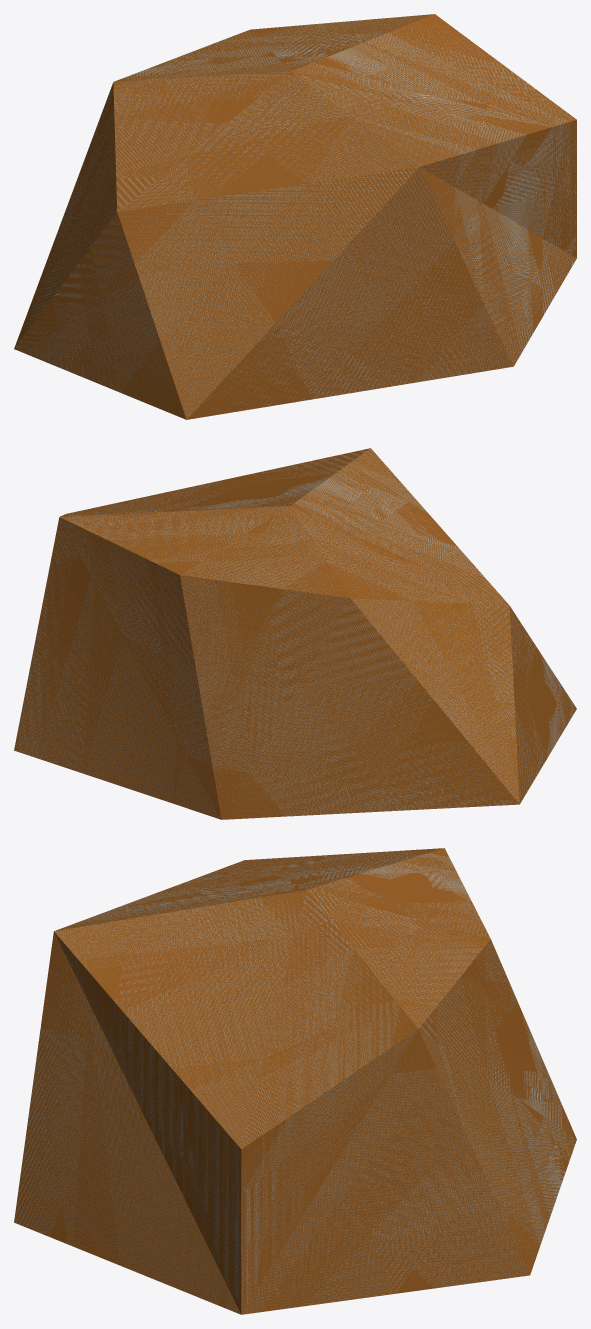
The model's file is Rock_Medium_Dirt_01.fbx.
The picture shows the model from 3 angles, top to bottom: view 1: azimuth 30°, elevation 25°; view 2: azimuth 150°, elevation 25°; view 3: azimuth 270°, elevation 25°; orthographic projection. The views are drawn at different scales.
Parts seen in each view (by area): view 1: Model; view 2: Model; view 3: Model.
Boxes of the visible parts, left/top/right/bottom form: Model: left=14, top=14, right=576, bottom=419; Model: left=14, top=448, right=576, bottom=819; Model: left=14, top=848, right=576, bottom=1314.
Bounding box in the file's own units: 376 × 201 × 298.
